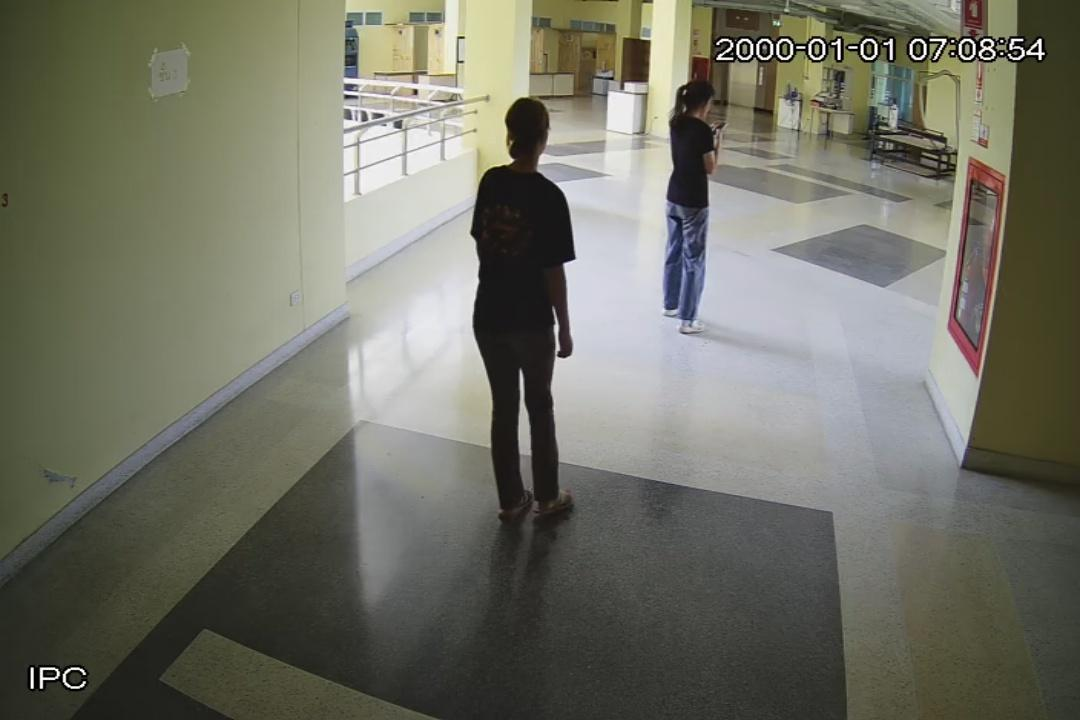normal: (468, 88, 586, 530), (660, 68, 722, 346)
